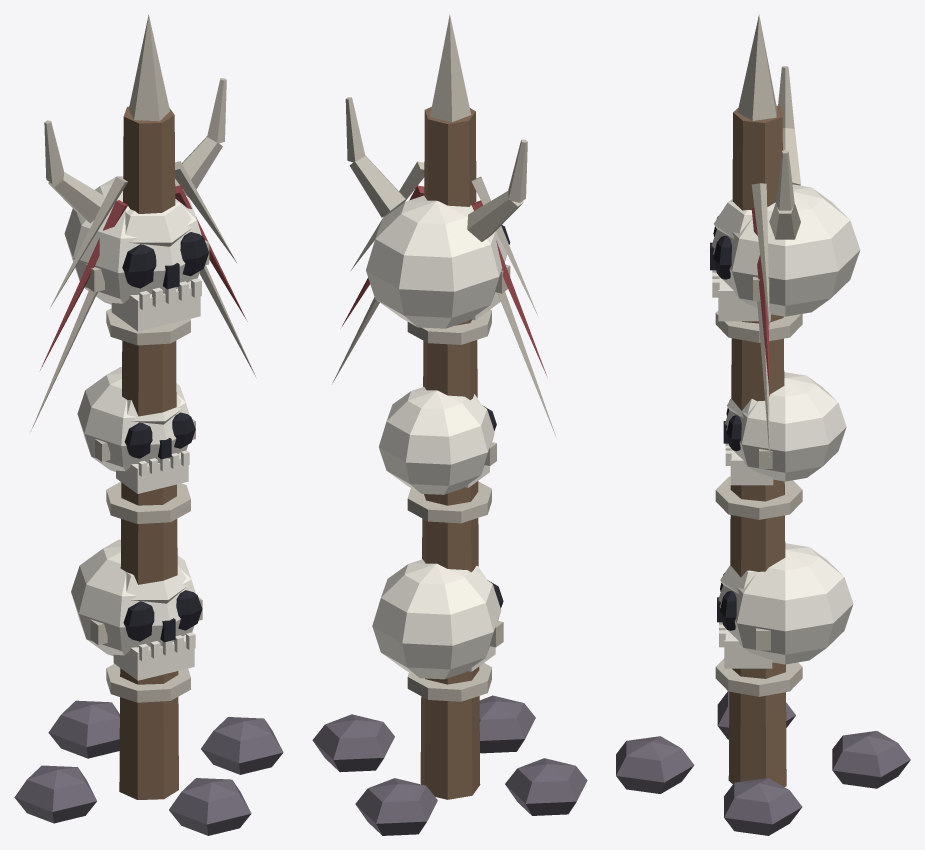
File: totem.glb
3 views of the same model, side by side, from view 1: azimuth 30°, elevation 25°; view 2: azimuth 150°, elevation 25°; view 3: azimuth 270°, elevation 25° (orthographic).
Parts seen in each view (by area): view 1: totem; view 2: totem; view 3: totem.
Part boxes in pixels (x1,y1,x2,y2): totem: [14, 14, 283, 835]; totem: [312, 14, 587, 835]; totem: [616, 14, 910, 835].
Bounding box in the file's own units: 1.38 × 3.92 × 1.36.
